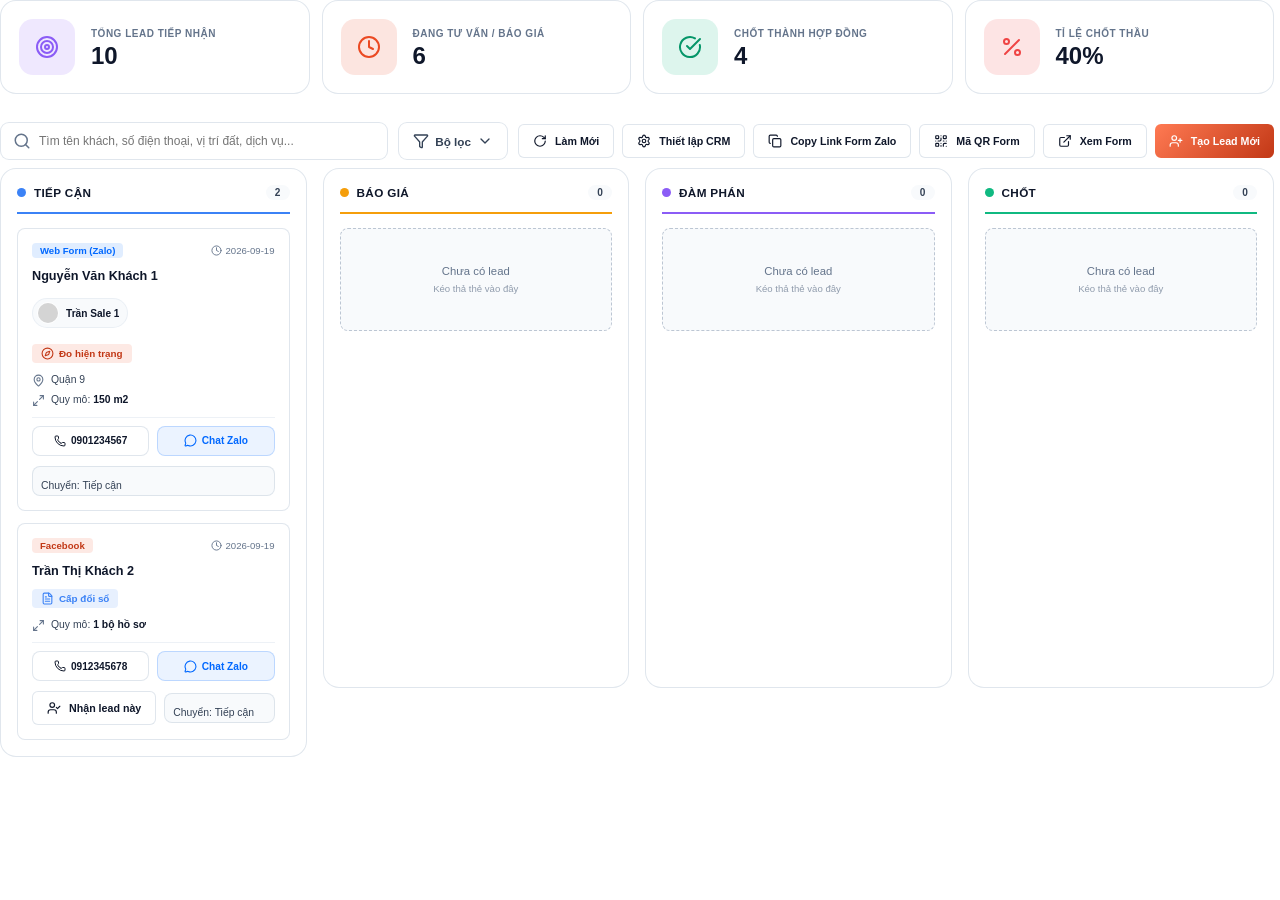
Test: CRM Component — Sales and Director views › calculates and previews sales commission live in Closing modal
Check: the heading "Nguyễn Văn Khách 1" is shown, box top-left (32, 269), bottom-right (158, 283)
Note: Move first lead to Chốt
Select "Chuyển: Chốt" in the dropdown titled "chọn cột để chuyển trạng thái" below "0901234567" at (153, 481), box top-left (32, 466), bottom-right (274, 496)
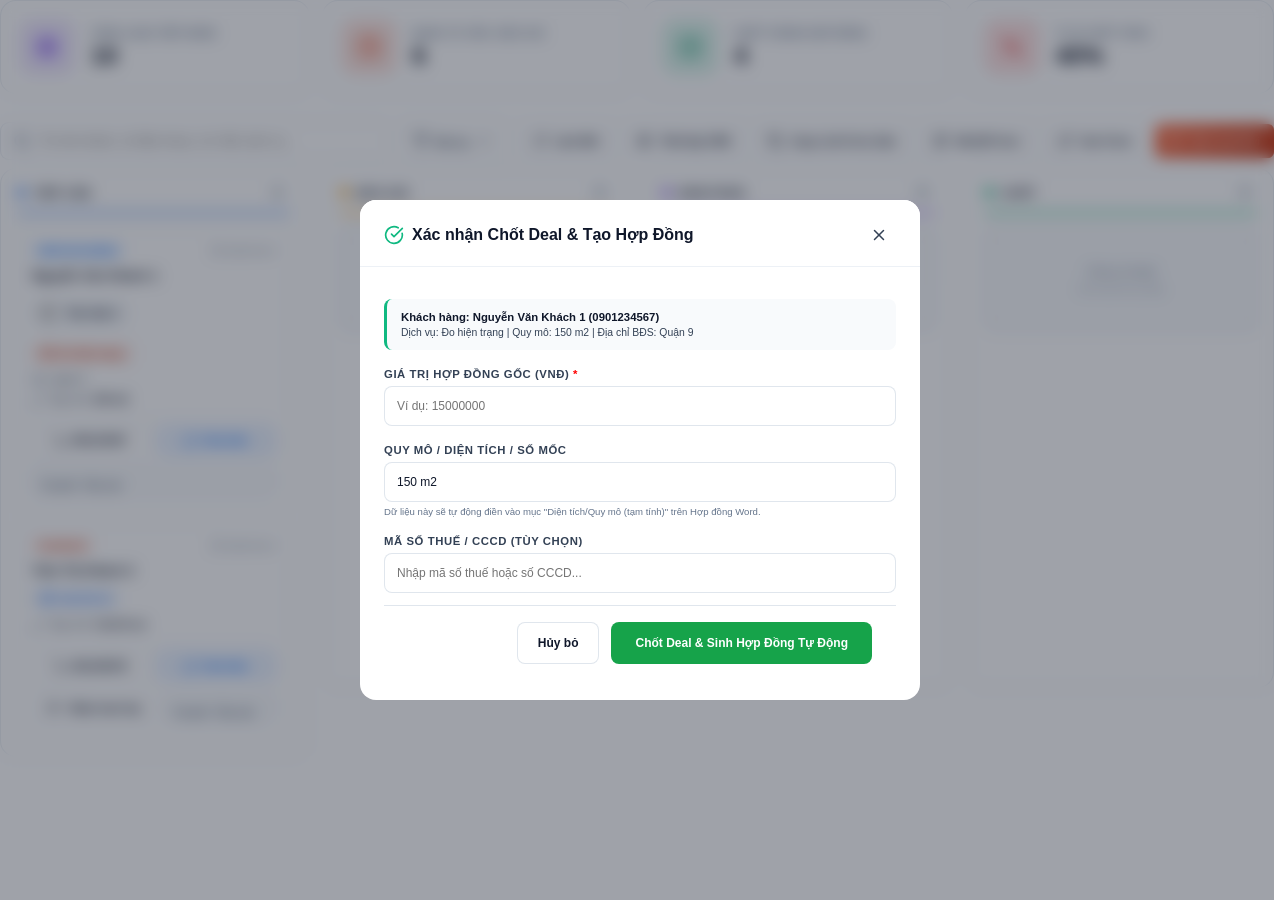
Check: the button "Chốt Deal & Sinh Hợp Đồng Tự Động" is shown, box top-left (612, 622), bottom-right (872, 664)
Type "20000000" into the number field with placeholder "Ví dụ: 15000000" at (640, 406), box top-left (384, 386), bottom-right (896, 426)
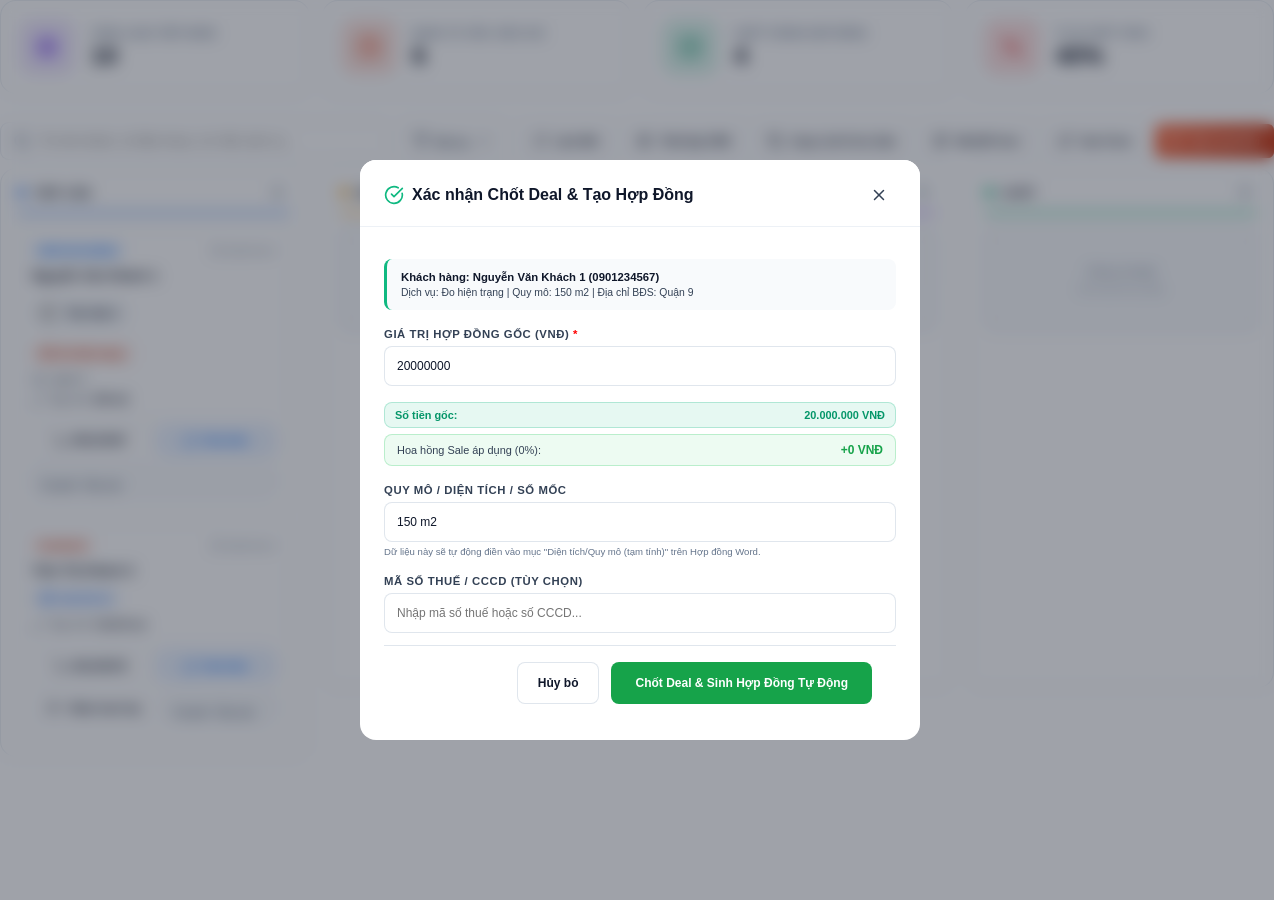
Check: the text "20.000.000 VNĐ" is shown, box top-left (804, 409), bottom-right (885, 421)
Check: the text "Hoa hồng Sale áp dụng (0%):" is shown, box top-left (397, 444), bottom-right (541, 456)
